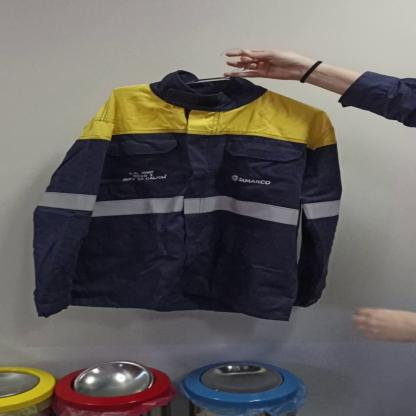C_eletrica: (32, 77, 338, 325)
